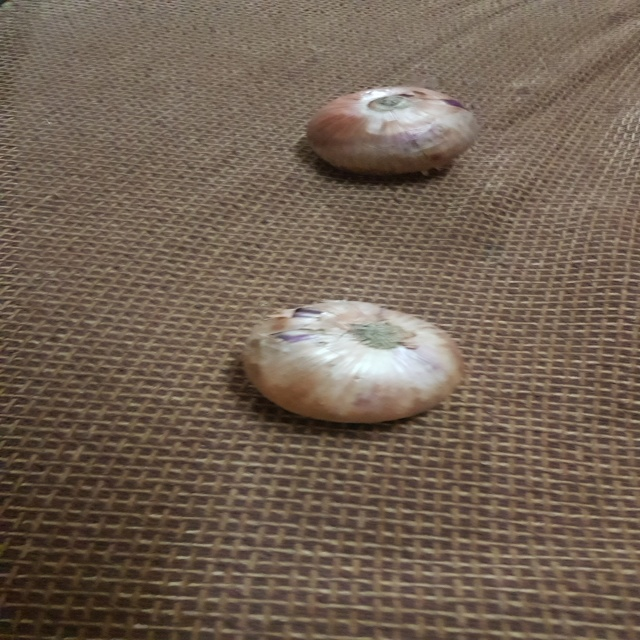onion: (227, 294, 474, 433), (296, 82, 494, 185)
